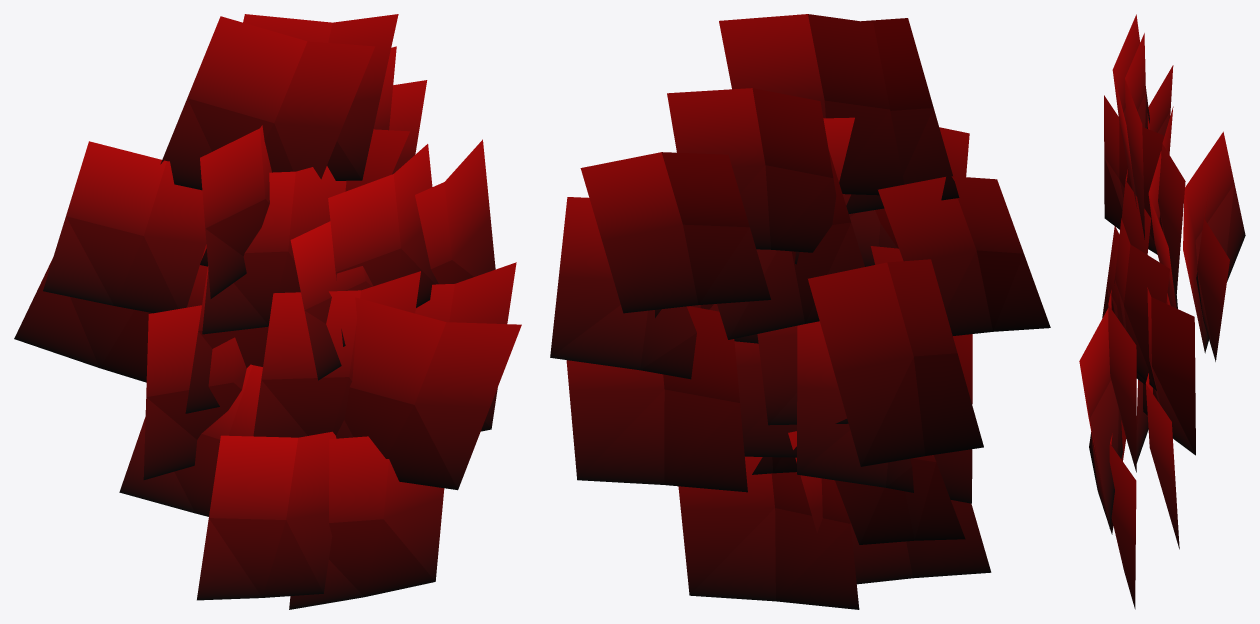
The model's file is IvyBend02.fbx.
3 views of the same model, side by side, from view 1: azimuth 30°, elevation 25°; view 2: azimuth 150°, elevation 25°; view 3: azimuth 270°, elevation 25° (orthographic). The views are drawn at different scales.
Visible parts, largest first — view 1: transform57; view 2: transform57; view 3: transform57.
Part boxes in pixels (left/top/right/bottom): transform57: left=14, top=14, right=521, bottom=609; transform57: left=550, top=14, right=1050, bottom=609; transform57: left=1079, top=14, right=1245, bottom=609.
Size of the model in its own units: 172 by 213 by 62.9.
